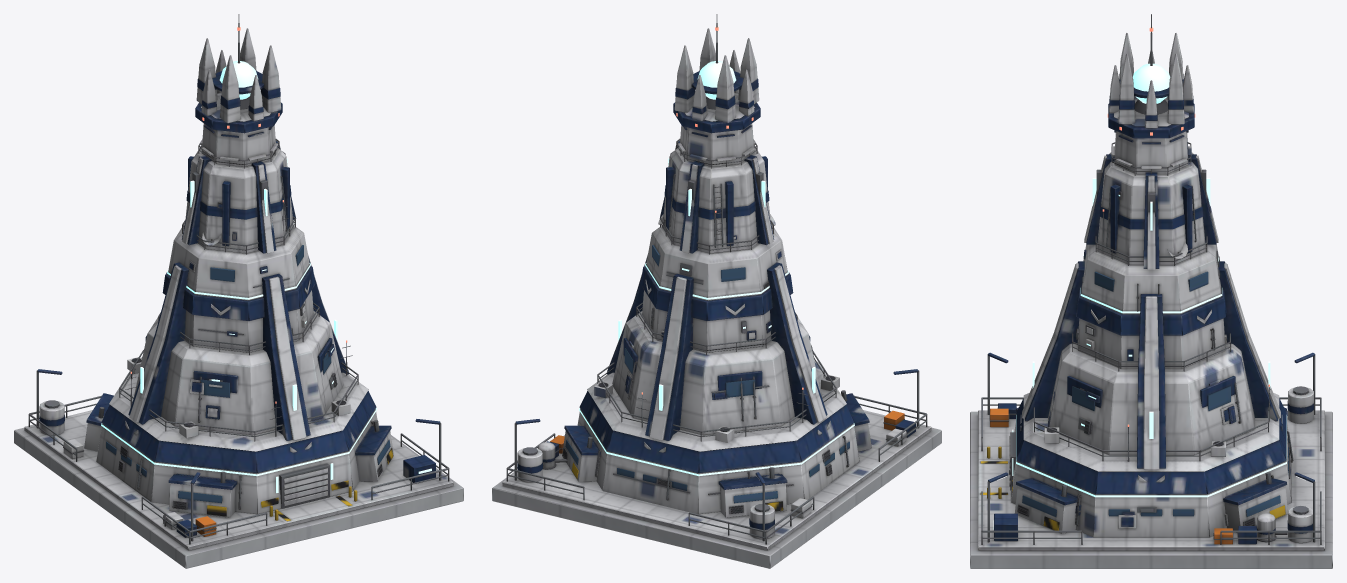
Rendered from 重製_聯盟巨塔.glb.
3 renders of one model, left to right at view 1: azimuth 30°, elevation 25°; view 2: azimuth 150°, elevation 25°; view 3: azimuth 270°, elevation 25°, orthographic. The views are drawn at different scales.
Parts seen in each view (by area): view 1: All_tower_Mesh; view 2: All_tower_Mesh; view 3: All_tower_Mesh.
Boxes of the visible parts, left/top/right/bottom form: All_tower_Mesh: left=14, top=14, right=463, bottom=568; All_tower_Mesh: left=492, top=14, right=941, bottom=568; All_tower_Mesh: left=970, top=14, right=1332, bottom=568.
Bounding box in the file's own units: 12.72 × 20 × 13.6.
4 materials, 1 textured.
